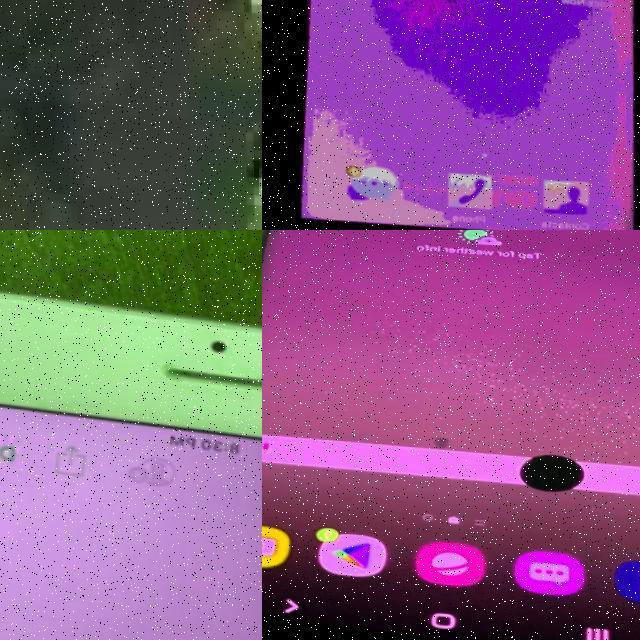dead pixel: (484, 419, 633, 516), (422, 423, 458, 456)
